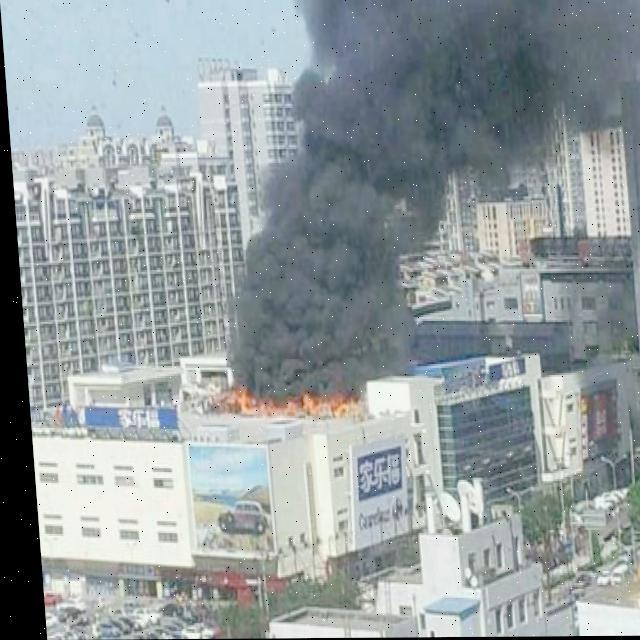Fire: (220, 359, 364, 421)
